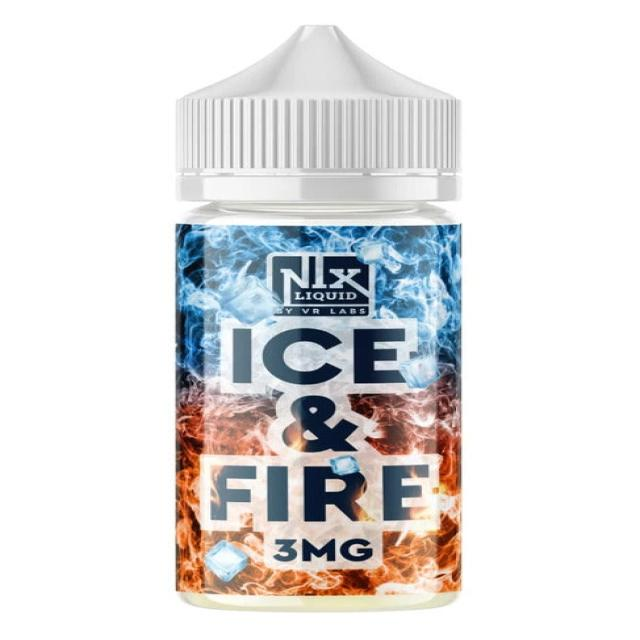Hazard: (171, 24, 465, 612)
